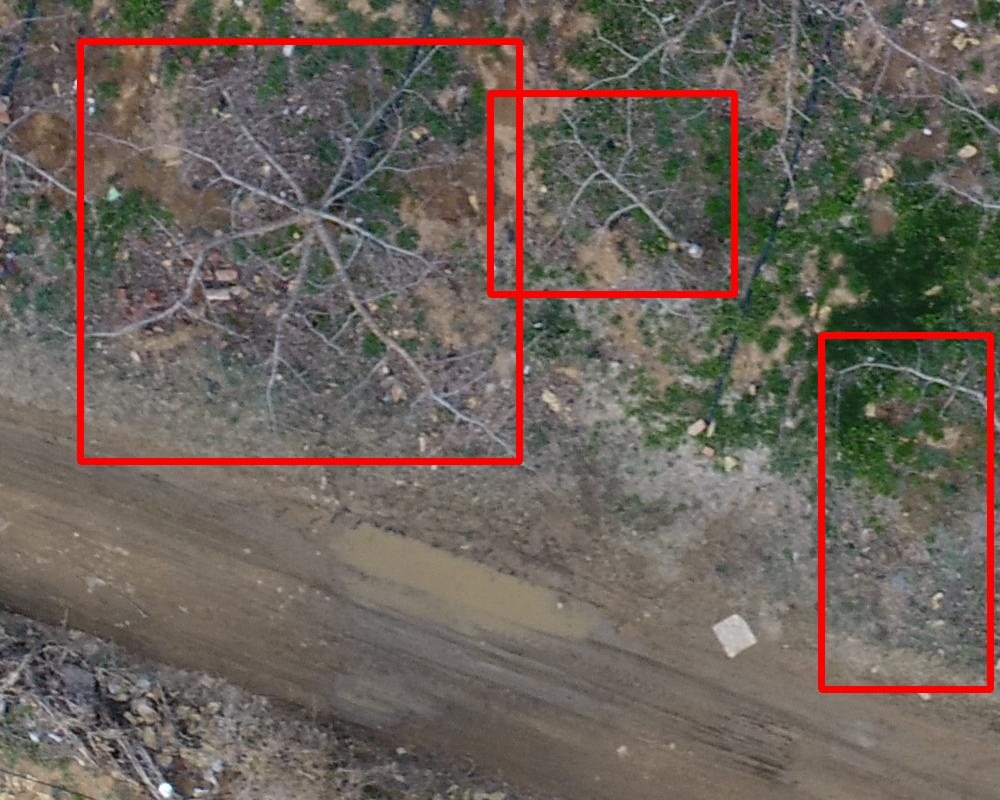apple: (80, 41, 519, 461), (821, 335, 990, 689), (490, 93, 734, 294)
